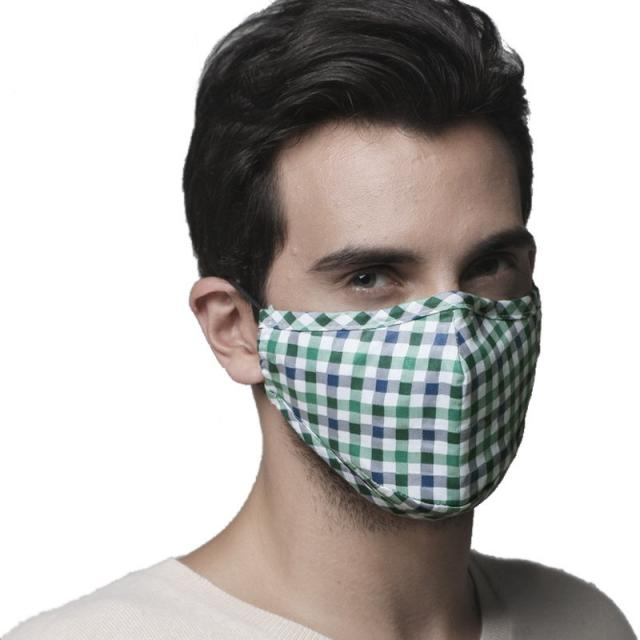mask: (264, 120, 533, 492)
